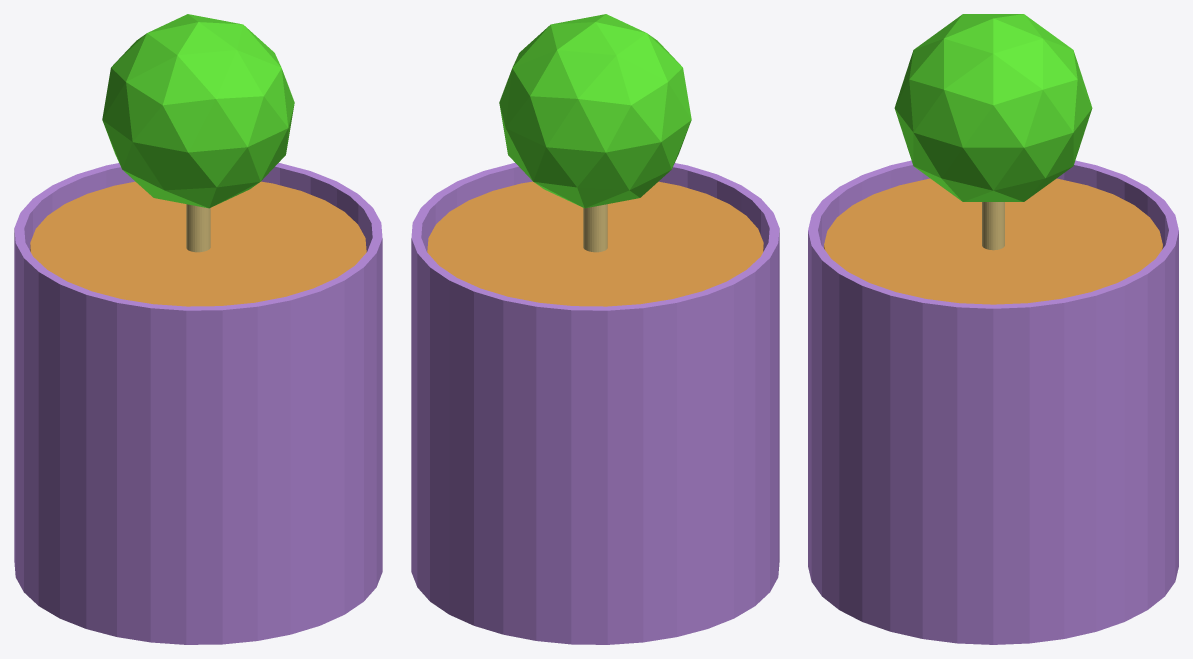
Rendered from plant.glb.
3 renders of one model, left to right at view 1: azimuth 30°, elevation 25°; view 2: azimuth 150°, elevation 25°; view 3: azimuth 270°, elevation 25°, orthographic.
Parts seen in each view (by area): view 1: Cylinder.002; view 2: Cylinder.002; view 3: Cylinder.002.
Part boxes in pixels (left/top/right/bottom): Cylinder.002: left=14, top=14, right=382, bottom=644; Cylinder.002: left=411, top=14, right=779, bottom=644; Cylinder.002: left=808, top=14, right=1178, bottom=644.
Bounding box in the file's own units: 9.3 × 16.8 × 9.3.
